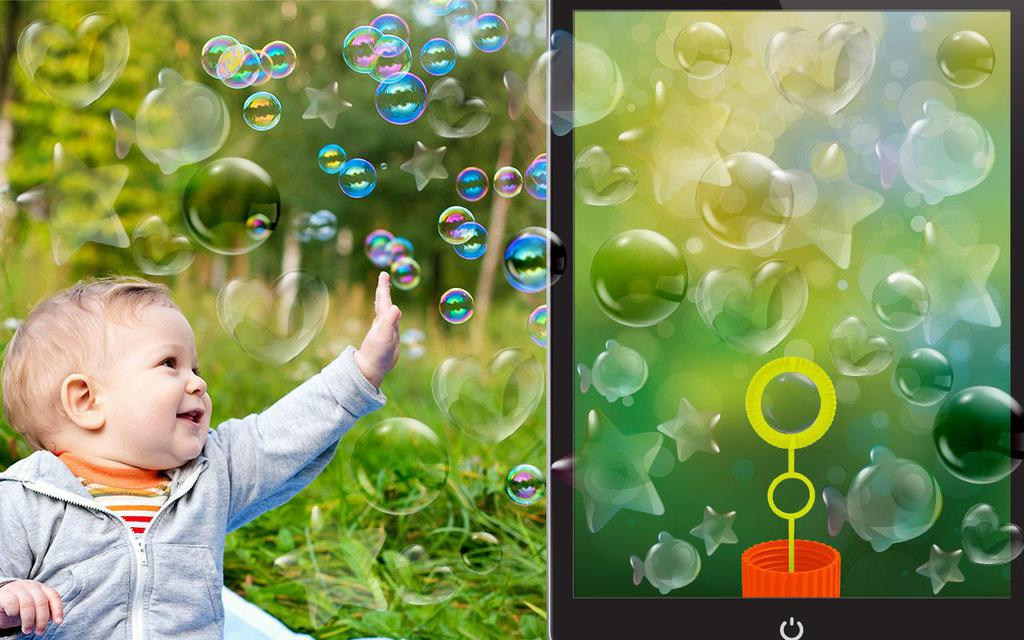child: (1, 263, 435, 634)
